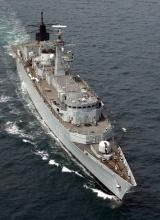warship: (9, 9, 136, 202)
